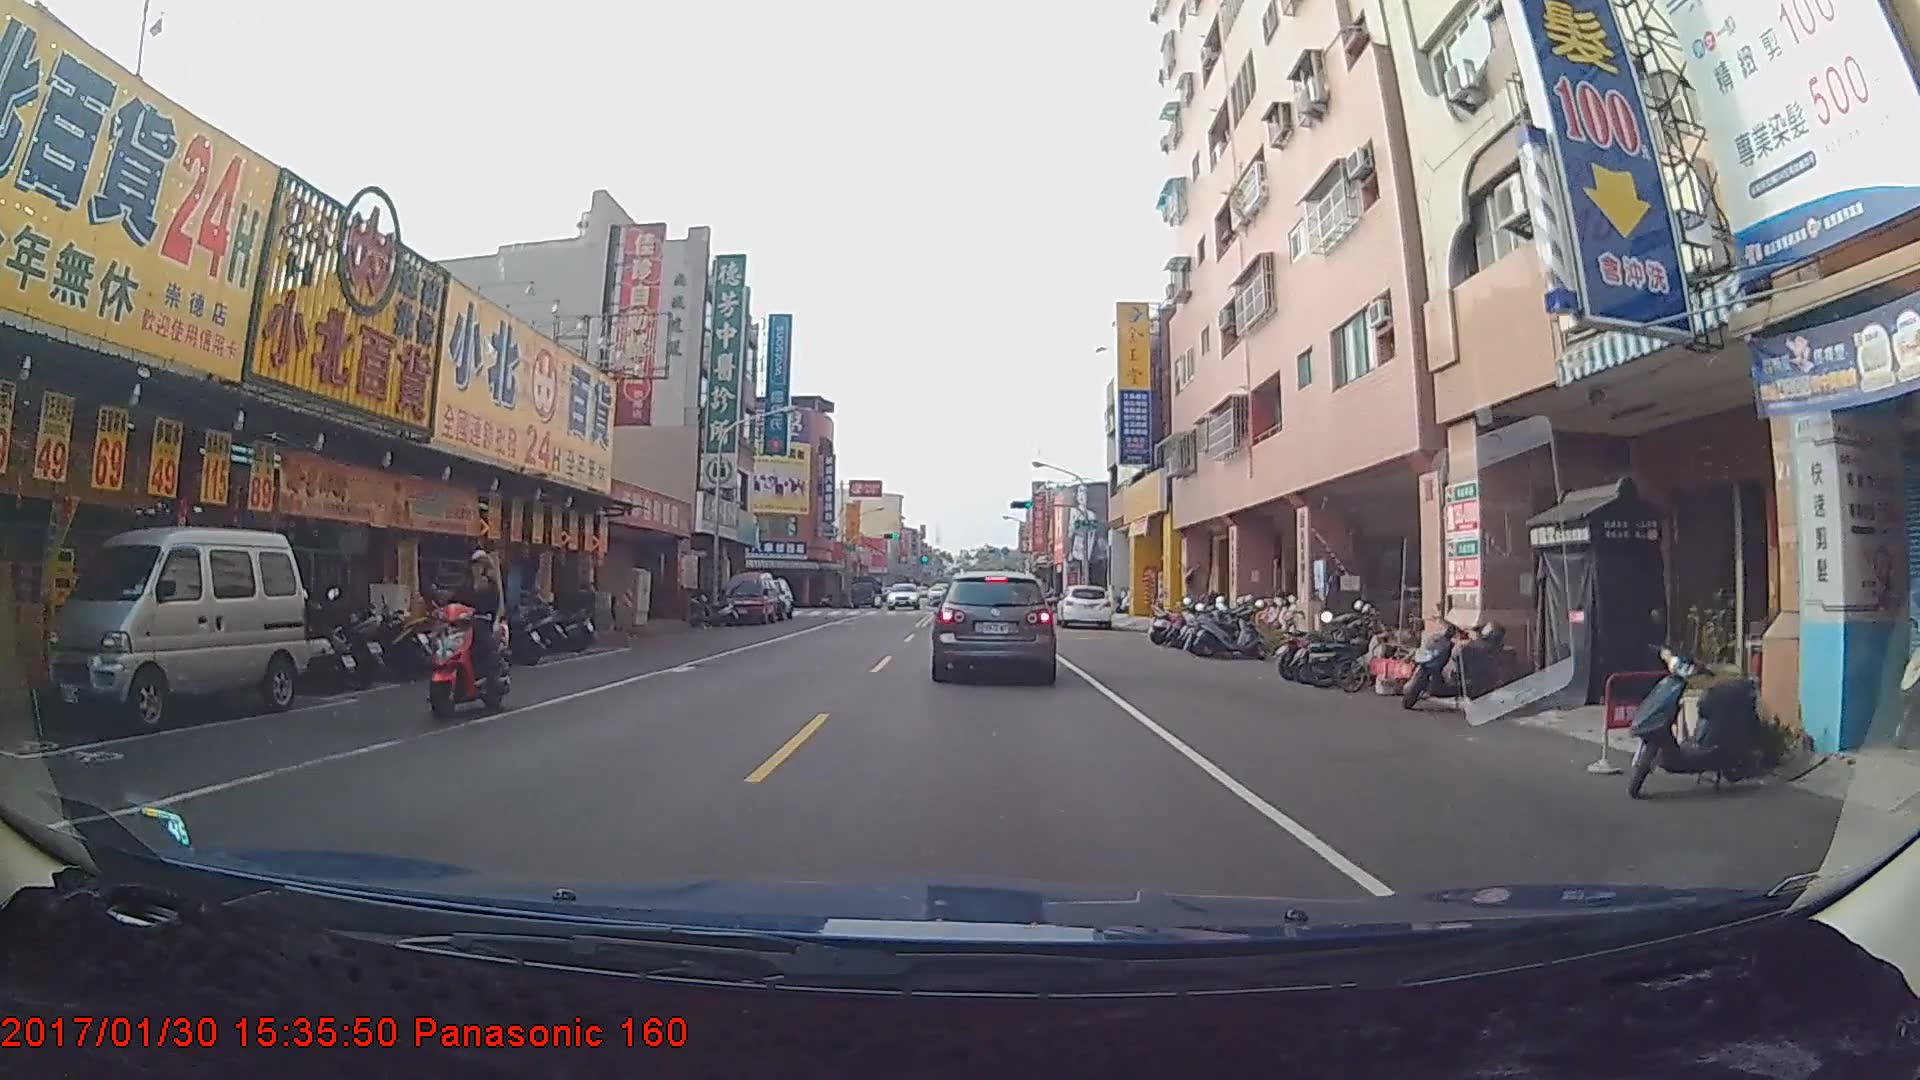rider: (430, 549, 520, 728)
vehicle: (44, 528, 304, 738), (932, 569, 1055, 681), (723, 568, 779, 623), (1056, 584, 1114, 630), (884, 581, 919, 609)
